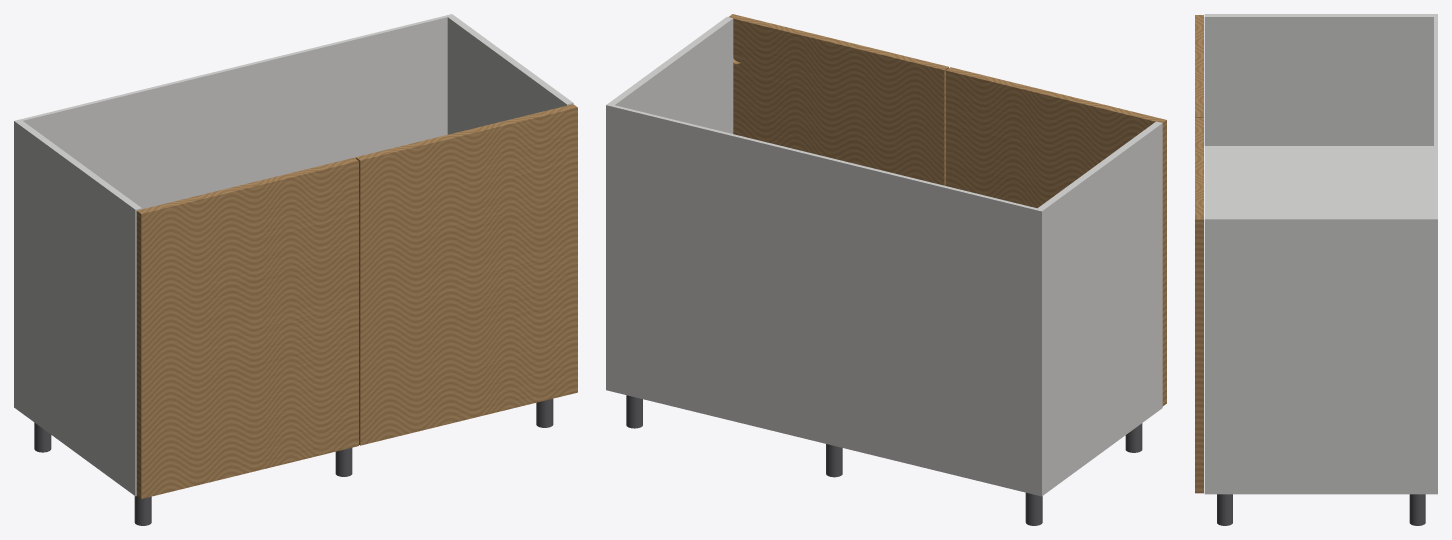
The model's file is w1200_none_pair_closed.glb.
3 views of the same model, side by side, from view 1: azimuth 30°, elevation 25°; view 2: azimuth 150°, elevation 25°; view 3: azimuth 270°, elevation 25° (orthographic). The views are drawn at different scales.
Parts seen in each view (by area): view 1: oak, white, leg; view 2: white, oak, leg; view 3: white, oak, leg.
Part boxes in pixels (x1,y1,x2,y2): oak: (136, 104, 577, 498); white: (14, 14, 573, 496); leg: (34, 398, 553, 525); white: (606, 17, 1162, 496); oak: (729, 14, 1166, 406); leg: (626, 395, 1142, 525); white: (1204, 14, 1437, 494); oak: (1195, 15, 1203, 493); leg: (1217, 494, 1425, 525).
Size of the model in its own units: 1.2 by 0.85 by 0.6.
3 materials, 1 textured.
